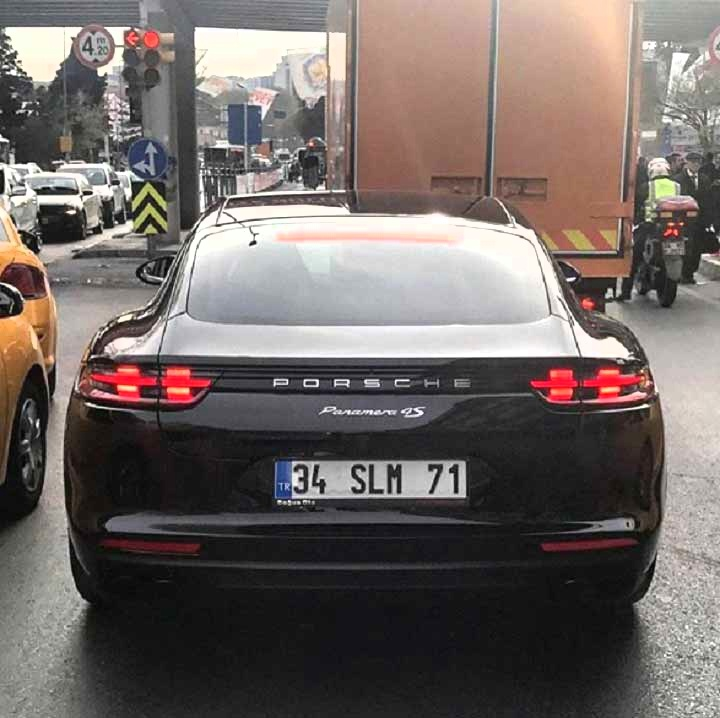plaka: (289, 457, 465, 502)
